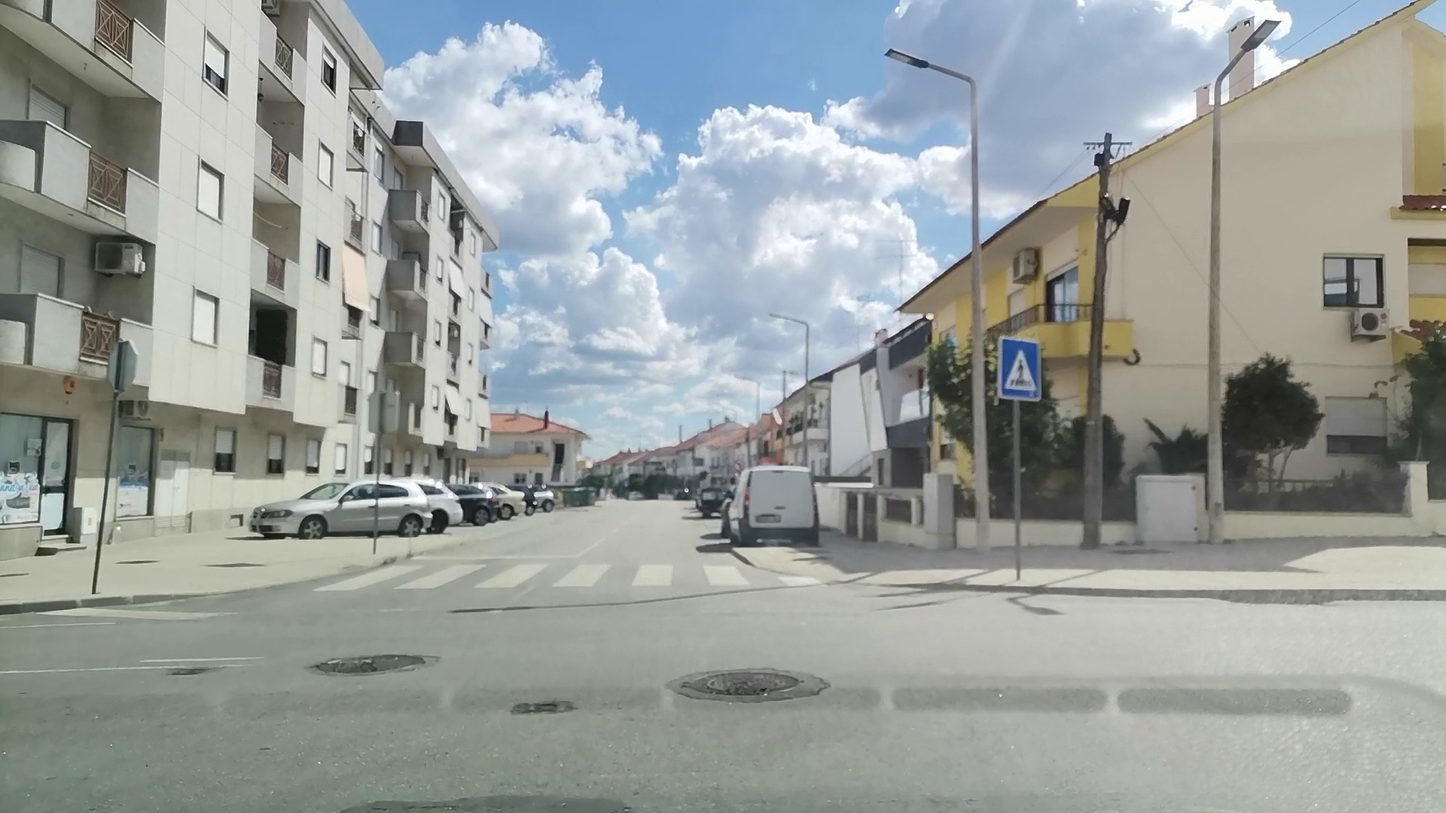Stairs: (313, 564, 832, 588)
